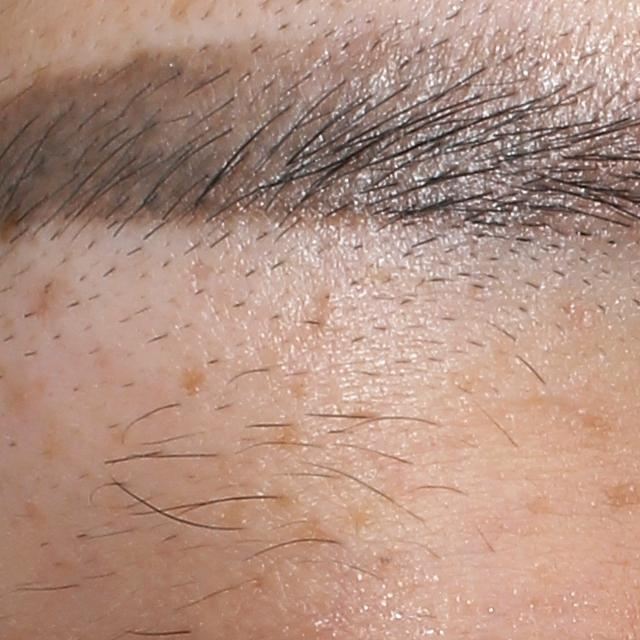melasma: (0, 369, 53, 417), (176, 365, 204, 397)
